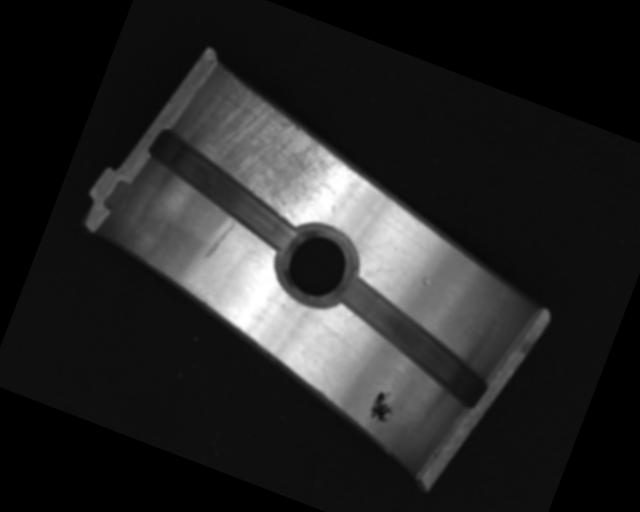blot: (364, 387, 402, 432)
bruise: (418, 275, 433, 287)
gap: (314, 271, 507, 413), (131, 125, 315, 255)
hole: (267, 214, 368, 313)
nick: (201, 212, 238, 265), (353, 230, 391, 263)
scratch: (171, 64, 363, 230)
